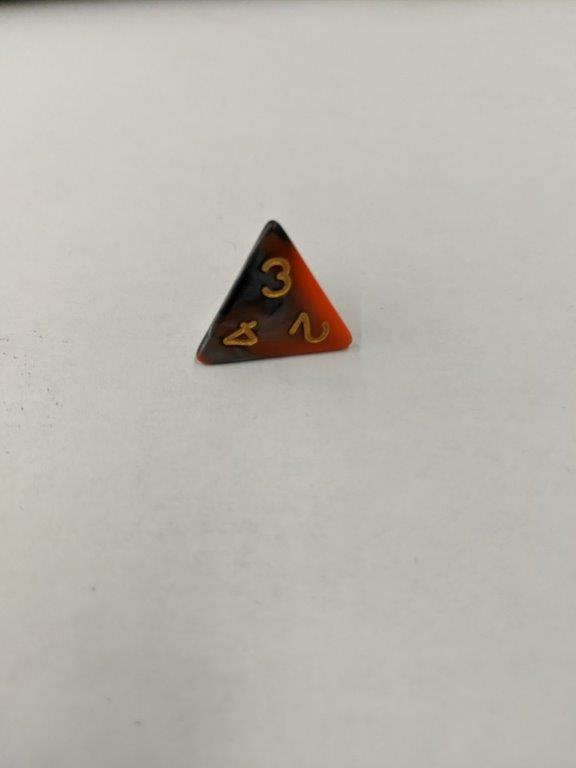d4-3: (190, 215, 357, 371)
